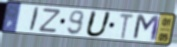9: (66, 10, 86, 36)
I: (27, 6, 41, 33)
M: (131, 14, 162, 44)
T: (119, 13, 136, 41)
U: (84, 10, 114, 39)
Z: (37, 8, 63, 34)
